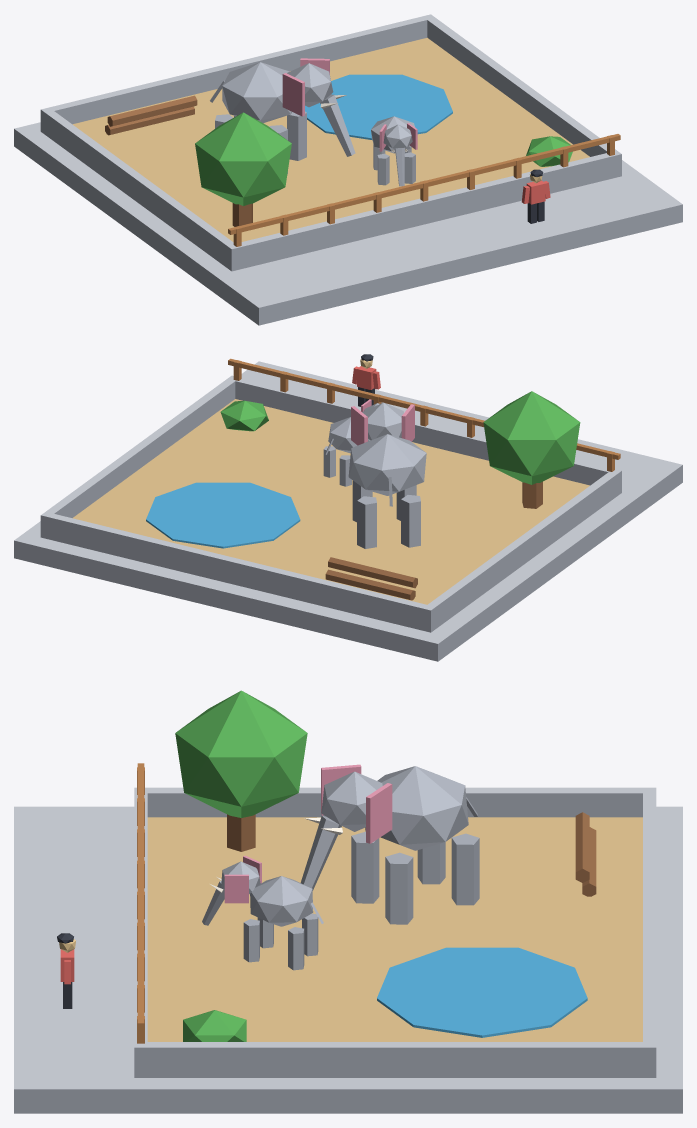
Rendered from zoo_elephant.glb.
3 views of the same model, one above another, from view 1: azimuth 30°, elevation 25°; view 2: azimuth 150°, elevation 25°; view 3: azimuth 270°, elevation 25° (orthographic). The views are drawn at different scales.
Parts seen in each view (by area): view 1: zoo_elephant; view 2: zoo_elephant; view 3: zoo_elephant.
Part boxes in pixels (x1,y1,x2,y2): zoo_elephant: (14, 14, 682, 325); zoo_elephant: (14, 354, 682, 661); zoo_elephant: (14, 690, 682, 1113).
Size of the model in its own units: 1 by 0.306 by 1.
